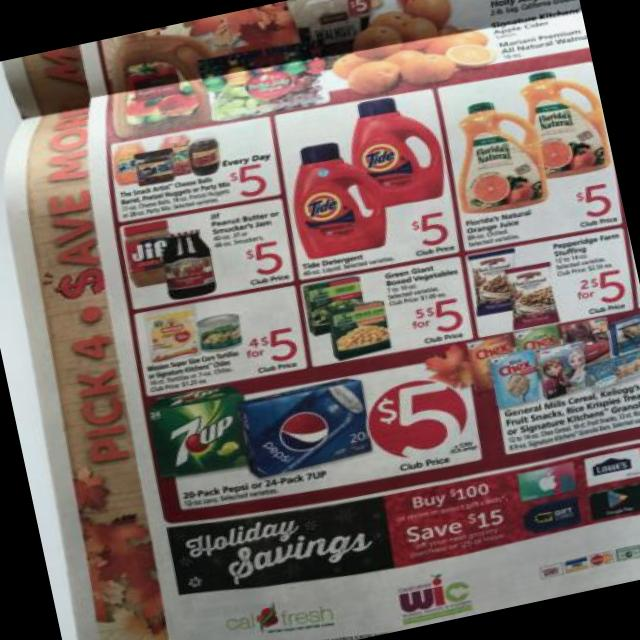bottle: (292, 143, 385, 259), (457, 103, 547, 214), (351, 99, 443, 207), (521, 72, 609, 177), (162, 231, 214, 299), (160, 134, 192, 176), (112, 143, 142, 186), (189, 138, 220, 176)
